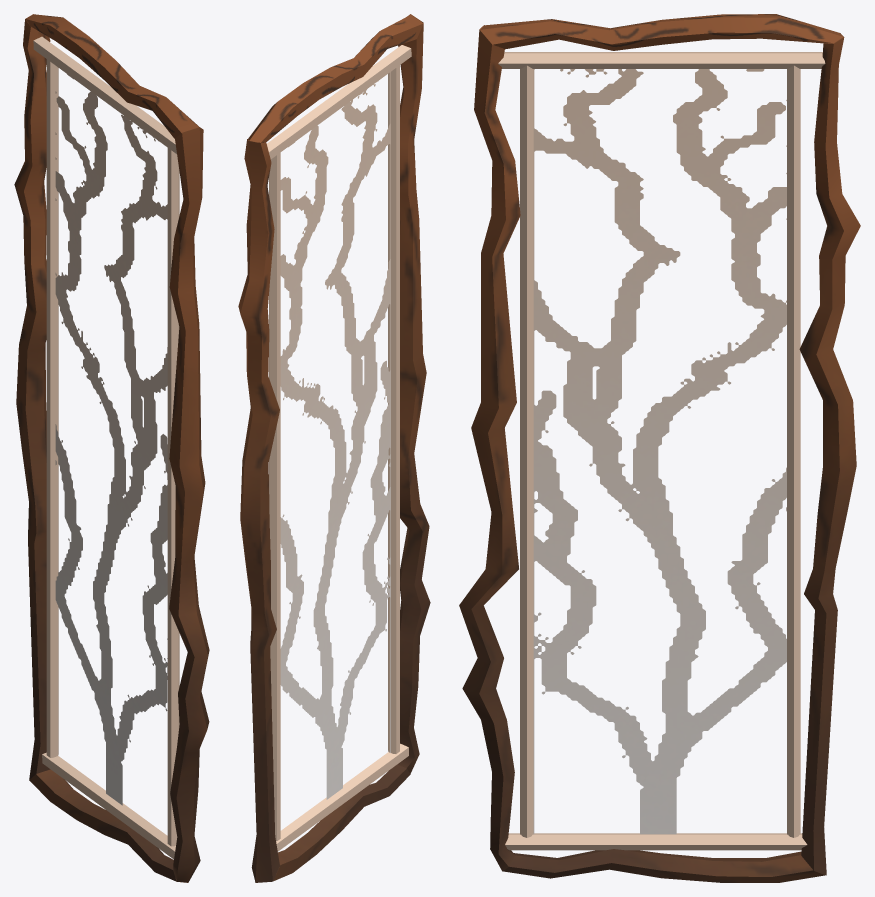
The model's file is Divider02.fbx.
3 views of the same model, side by side, from view 1: azimuth 30°, elevation 25°; view 2: azimuth 150°, elevation 25°; view 3: azimuth 270°, elevation 25° (orthographic). The views are drawn at different scales.
Visible parts, largest first — view 1: Divider02; view 2: Divider02; view 3: Divider02.
Part boxes in pixels (x1,y1,x2,y2): Divider02: [14, 14, 209, 882]; Divider02: [238, 14, 430, 882]; Divider02: [459, 14, 860, 882].
Size of the model in its own units: 0.528 by 14.68 by 6.17.
